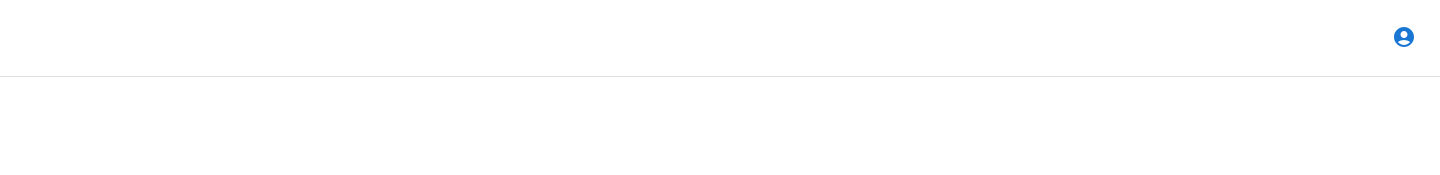
Scenario: TEOS-307 menu and routes › the account menu has Profile next to Logout
The image size is (1440, 175).
Click the button at (1404,36), box top-left (1384, 16), bottom-right (1424, 56)
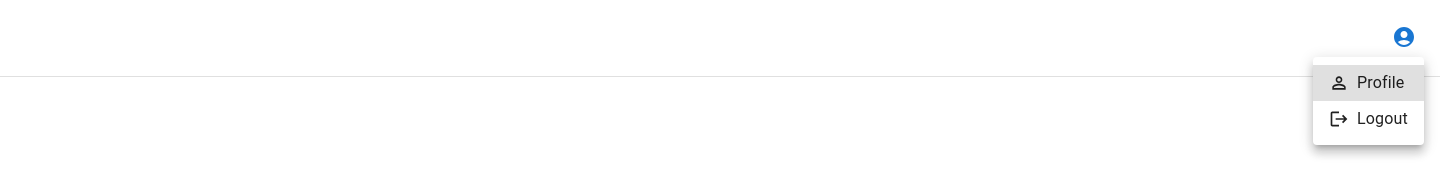
Check: the menu item "Profile" is shown, box top-left (1313, 65), bottom-right (1424, 101)
Check: the menu item "Logout" is shown, box top-left (1329, 109), bottom-right (1408, 129)
